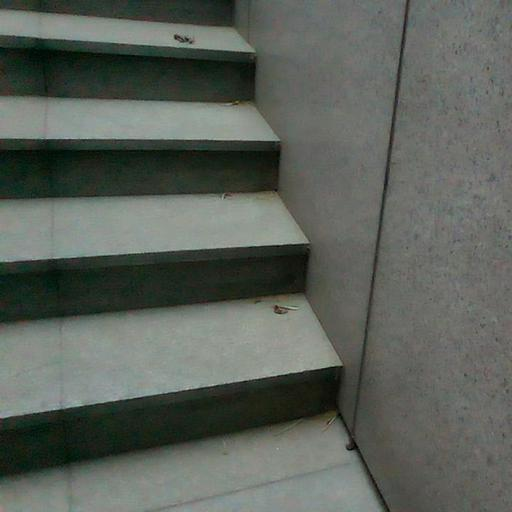stairs: (0, 0, 340, 511)
